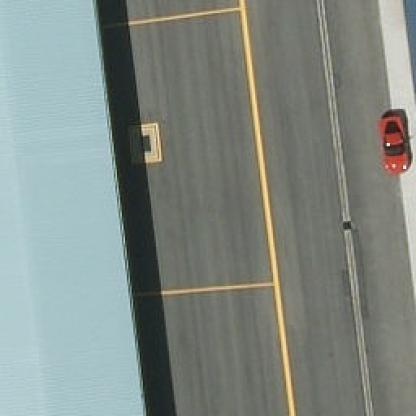car: (375, 113, 411, 171)
